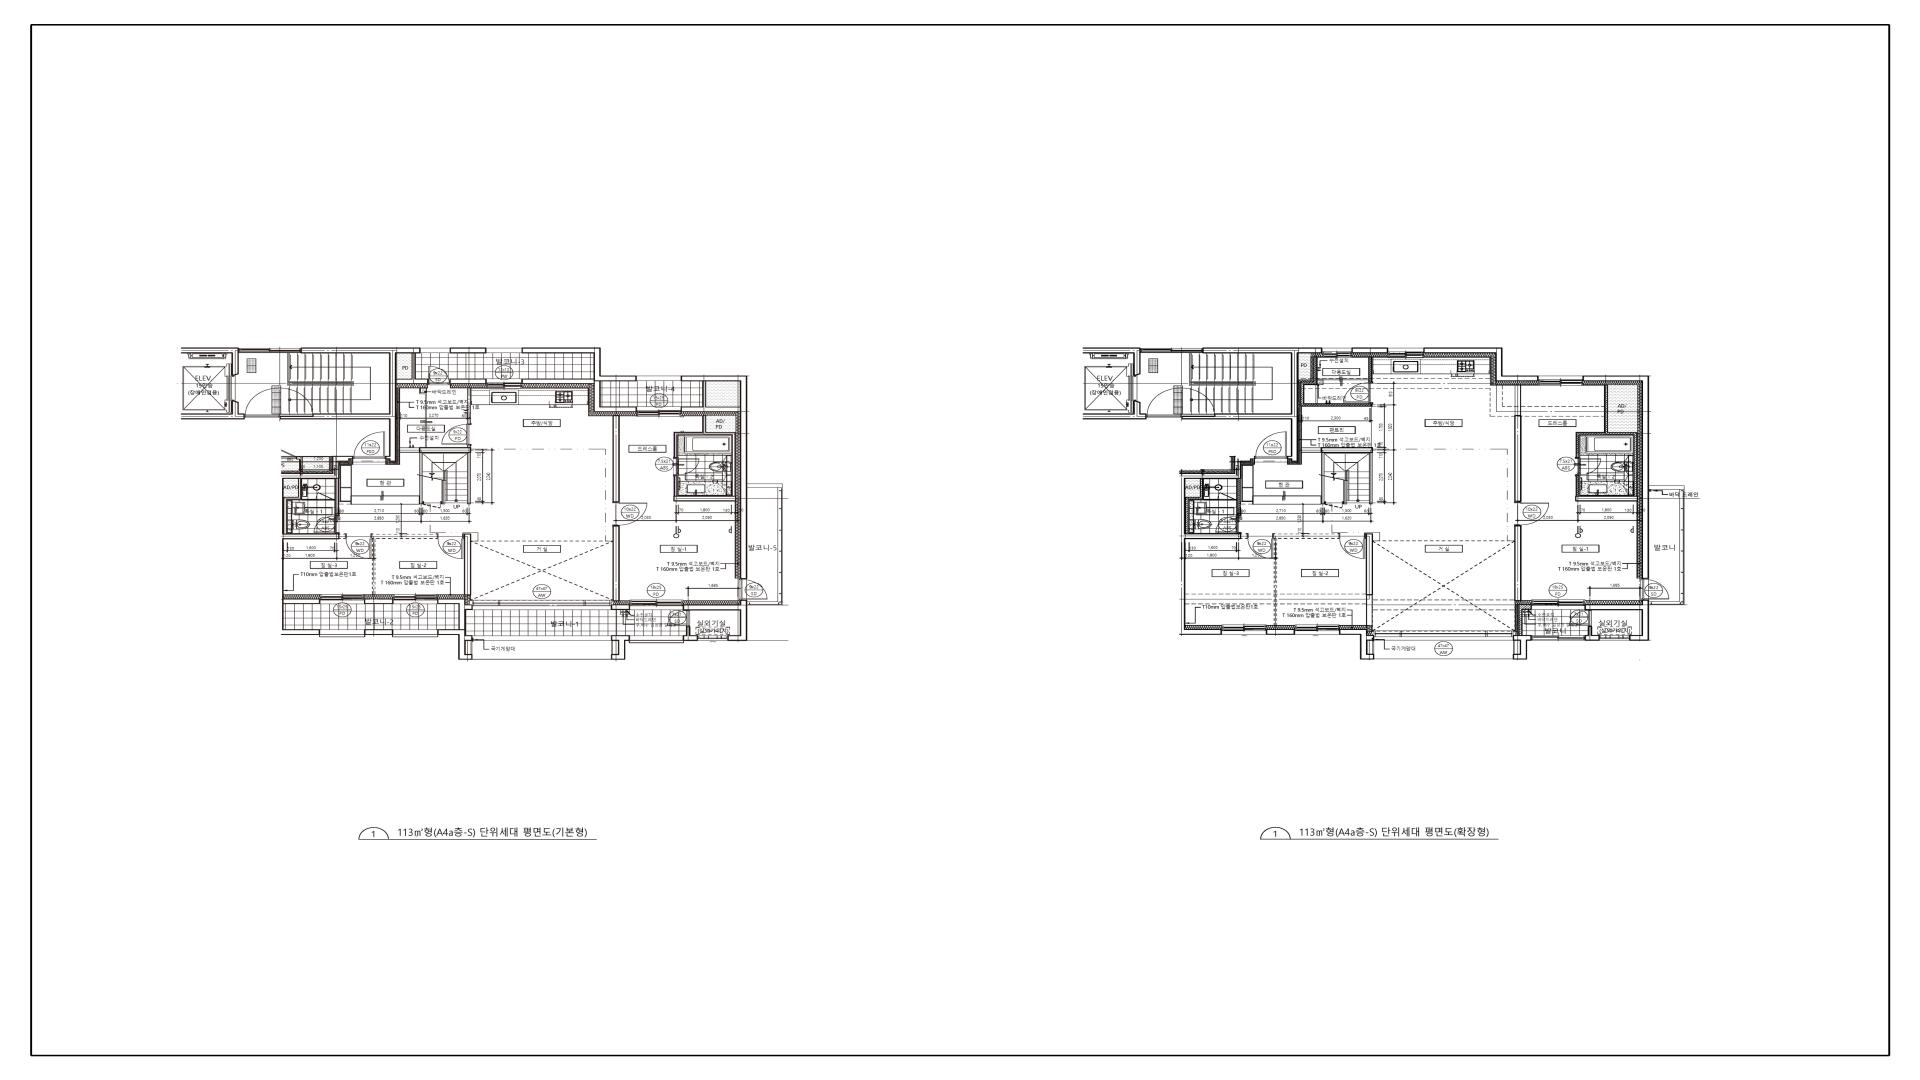door: (1146, 388, 1182, 418), (245, 388, 280, 418), (1255, 431, 1287, 459), (353, 431, 385, 459), (613, 502, 649, 526), (1514, 502, 1549, 526), (1247, 533, 1274, 559), (436, 534, 464, 559), (1338, 534, 1366, 559), (440, 423, 471, 446), (345, 534, 372, 559), (1344, 382, 1373, 404), (740, 579, 767, 600), (1642, 579, 1669, 600), (1215, 514, 1242, 533), (313, 516, 340, 534), (674, 458, 700, 476), (1576, 458, 1602, 476), (427, 365, 450, 385), (1568, 611, 1592, 626), (667, 611, 690, 626), (1217, 492, 1236, 501), (316, 492, 335, 501), (1324, 501, 1344, 509), (423, 501, 442, 509)
wall: (680, 376, 783, 641), (1582, 376, 1684, 641), (280, 347, 421, 462), (1182, 347, 1321, 462), (1182, 456, 1255, 636), (281, 456, 353, 636), (1576, 385, 1638, 501), (1274, 534, 1338, 626), (674, 415, 736, 501), (400, 444, 471, 505), (1300, 447, 1373, 505), (522, 378, 637, 413), (372, 534, 436, 595), (1424, 348, 1539, 381), (522, 348, 637, 381), (1300, 356, 1373, 406), (682, 381, 740, 413), (1185, 479, 1218, 534), (284, 479, 316, 534), (181, 347, 239, 377), (1083, 348, 1141, 377), (181, 400, 245, 419), (1083, 400, 1146, 419), (438, 629, 472, 659), (1340, 629, 1374, 659), (438, 599, 472, 629), (1514, 385, 1522, 502), (397, 353, 427, 384), (1366, 534, 1373, 626), (1514, 526, 1522, 601), (612, 526, 620, 601), (613, 415, 620, 502), (611, 636, 630, 659), (1513, 636, 1532, 659), (464, 534, 471, 596), (1519, 604, 1531, 636), (1585, 626, 1600, 641), (683, 626, 698, 641), (1236, 479, 1241, 516), (1352, 348, 1389, 353), (450, 348, 487, 353), (1266, 629, 1295, 636), (284, 599, 319, 604), (450, 378, 485, 384), (365, 629, 393, 636), (365, 599, 393, 604), (335, 479, 339, 516), (467, 388, 471, 423), (612, 604, 629, 611), (1369, 356, 1373, 382), (442, 480, 446, 505), (1344, 480, 1346, 505), (339, 534, 345, 539), (1241, 534, 1247, 539)
window: (472, 600, 612, 611), (1374, 630, 1514, 641), (472, 636, 611, 641), (1531, 600, 1585, 611), (629, 600, 683, 611), (1221, 625, 1267, 636), (1295, 625, 1340, 636), (637, 406, 682, 417), (1539, 376, 1582, 386), (319, 595, 365, 604), (630, 636, 683, 644), (393, 595, 438, 604), (1141, 347, 1203, 353), (239, 347, 301, 353), (485, 378, 522, 389), (1389, 348, 1424, 359), (393, 629, 438, 637), (320, 629, 364, 637), (1321, 348, 1352, 357), (1532, 636, 1585, 641), (637, 376, 680, 381), (487, 348, 522, 353), (1600, 636, 1630, 641), (698, 636, 728, 641), (421, 348, 450, 353)
